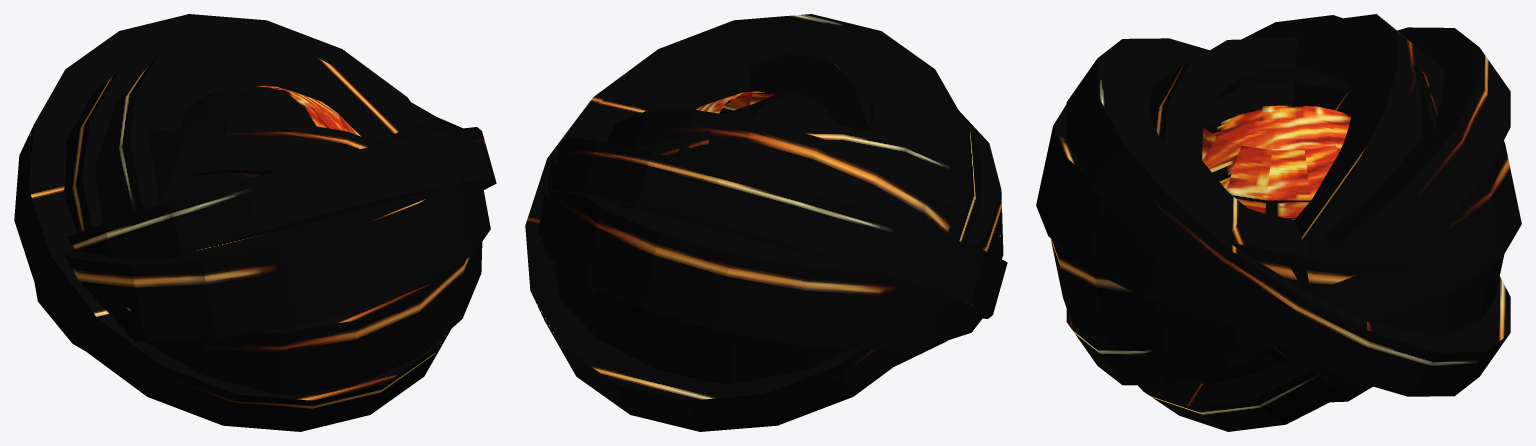
File: frame_072.obj
The picture shows the model from 3 angles, left to right: view 1: azimuth 30°, elevation 25°; view 2: azimuth 150°, elevation 25°; view 3: azimuth 270°, elevation 25°; orthographic projection. The views are drawn at different scales.
Parts seen in each view (by area): view 1: cylinder, sphere; view 2: cylinder, sphere; view 3: cylinder, sphere.
Part boxes in pixels (x1=…): cylinder: x1=14, y1=14, x2=496, y2=431; sphere: x1=179, y1=85, x2=360, y2=136; cylinder: x1=525, y1=14, x2=1007, y2=431; sphere: x1=696, y1=91, x2=836, y2=125; cylinder: x1=1036, y1=14, x2=1521, y2=431; sphere: x1=1202, y1=68, x2=1351, y2=219.
Size of the model in its own units: 1.12 by 0.8038 by 1.05.
Materials: 5 (5 with a texture image).
